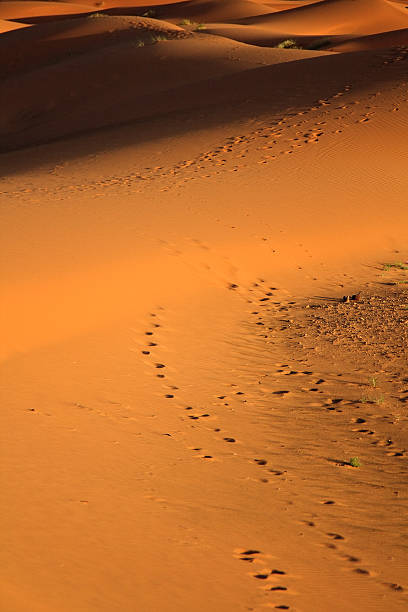human_footprint: (141, 309, 236, 460), (276, 353, 382, 485), (300, 518, 375, 576), (234, 548, 290, 609), (253, 458, 286, 482)
